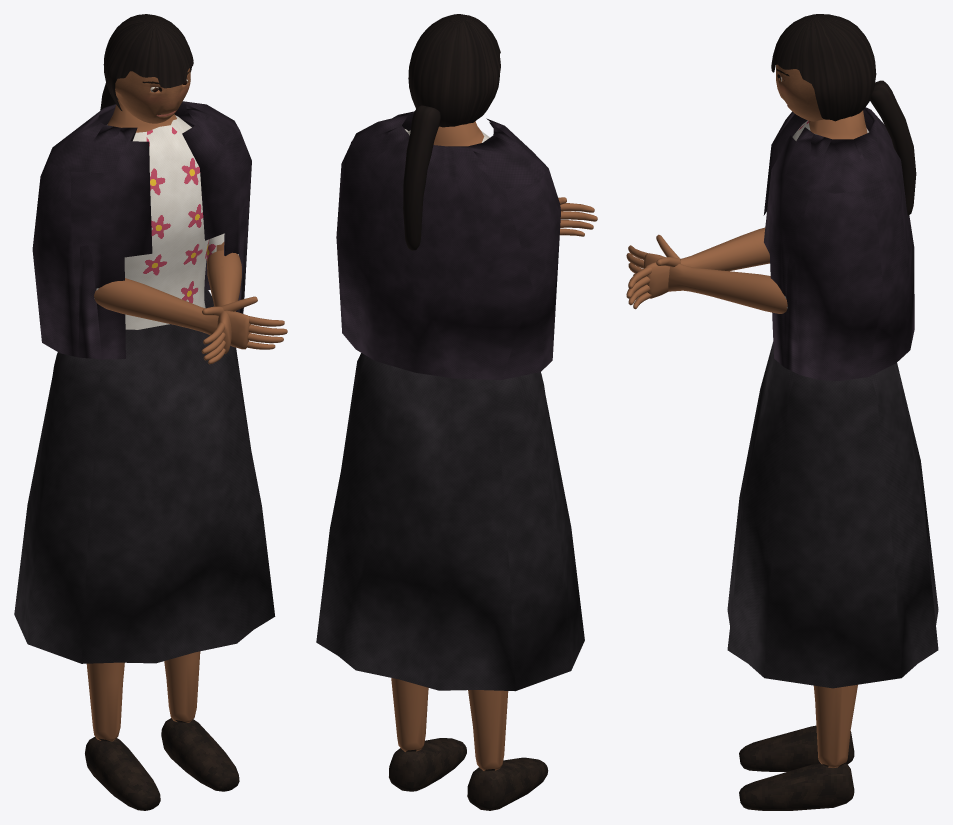
File: persona_mujer_a_medio.obj
3 renders of one model, left to right at view 1: azimuth 30°, elevation 25°; view 2: azimuth 150°, elevation 25°; view 3: azimuth 270°, elevation 25°, orthographic. The views are drawn at different scales.
Parts seen in each view (by area): view 1: Falda, Rebozo, Torso, PiernaDer, AntebrazoDer, PiernaIzq, Pelo, AntebrazoIzq, Cabeza; view 2: Falda, Rebozo, Pelo, PiernaDer, PiernaIzq, AntebrazoIzq, Torso; view 3: Falda, Rebozo, Pelo, PiernaIzq, AntebrazoIzq, AntebrazoDer, PiernaDer, Cabeza, Torso.
Part boxes in pixels (x1,y1,x2,y2): Falda: (14, 288, 275, 663); Rebozo: (32, 101, 251, 359); Torso: (107, 99, 209, 329); PiernaDer: (85, 662, 160, 810); AntebrazoDer: (94, 278, 287, 349); PiernaIzq: (161, 651, 239, 791); Pelo: (100, 14, 193, 110); AntebrazoIzq: (201, 250, 241, 364); Cabeza: (115, 68, 190, 123); Falda: (316, 353, 584, 691); Rebozo: (336, 111, 560, 379); Pelo: (403, 14, 500, 250); PiernaDer: (467, 690, 548, 810); PiernaIzq: (389, 678, 466, 791); AntebrazoIzq: (558, 197, 597, 236); Torso: (407, 121, 489, 146); Falda: (727, 342, 938, 688); Rebozo: (763, 107, 914, 380); Pelo: (771, 14, 916, 215); PiernaIzq: (739, 684, 857, 810); AntebrazoIzq: (626, 234, 787, 313); AntebrazoDer: (626, 227, 769, 309); PiernaDer: (739, 725, 854, 771); Cabeza: (776, 64, 823, 121); Torso: (792, 110, 868, 140).
Bounding box in the file's own units: 0.5257 × 1.62 × 0.5943.
Materials: 12 (12 with a texture image).
